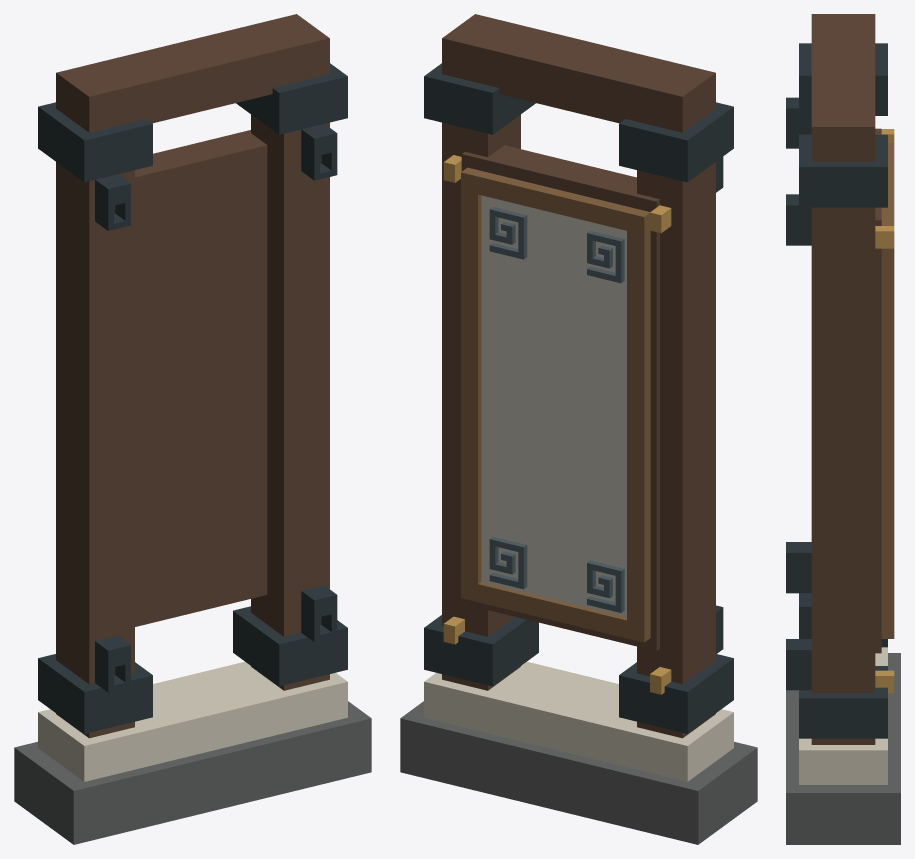
The model's file is BUILT-045.glb.
3 views of the same model, side by side, from view 1: azimuth 30°, elevation 25°; view 2: azimuth 150°, elevation 25°; view 3: azimuth 270°, elevation 25° (orthographic). The views are drawn at different scales.
Parts seen in each view (by area): view 1: 共享墙侧实体牌框; view 2: 共享墙侧实体牌框; view 3: 共享墙侧实体牌框.
Part boxes in pixels (left/top/right/bottom): 共享墙侧实体牌框: left=14, top=14, right=371, bottom=844; 共享墙侧实体牌框: left=400, top=14, right=757, bottom=844; 共享墙侧实体牌框: left=786, top=14, right=900, bottom=844.
Bounding box in the file's own units: 1.04 × 2.44 × 0.36.
Materials: 8 (8 with a texture image).
